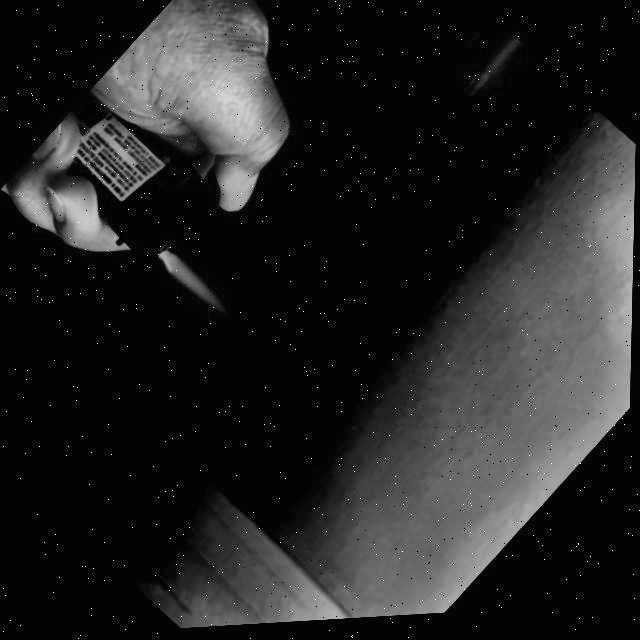Fire: (155, 244, 252, 339)
